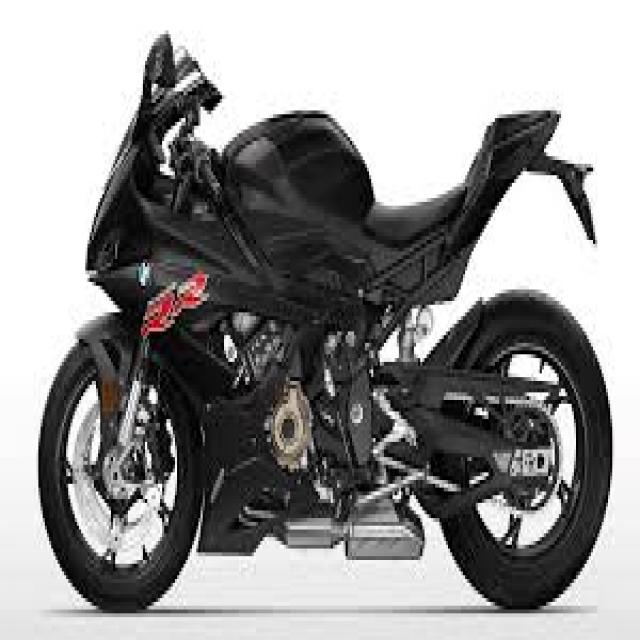Bike: (38, 34, 616, 611)
